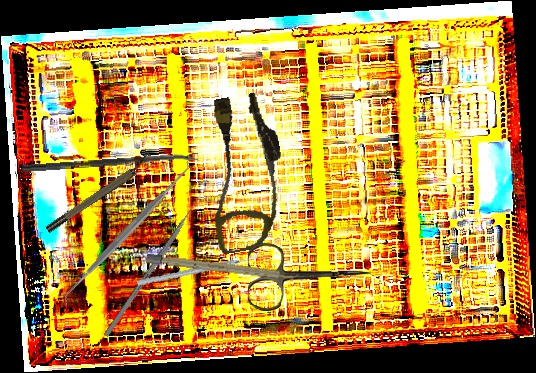Cannula: (193, 89, 297, 256)
Chopper: (136, 226, 263, 309)
Fixation Ring: (41, 151, 158, 235)
Iris Scissors: (247, 239, 372, 312)
Pusher: (103, 190, 206, 338)
Scalpel Handle: (146, 253, 299, 282)
Spatula Surgical: (53, 158, 200, 309)
Surgical Spoon: (21, 152, 199, 174)
